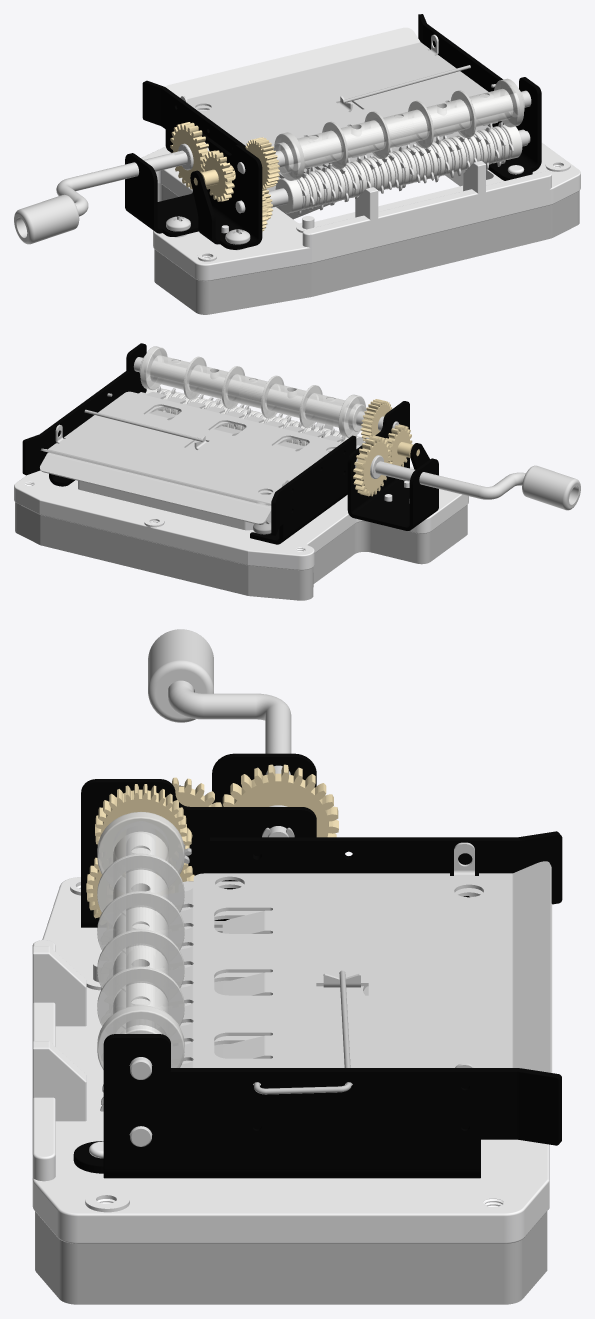
File: music-box_2.glb
3 views of the same model, one above another, from view 1: azimuth 30°, elevation 25°; view 2: azimuth 150°, elevation 25°; view 3: azimuth 270°, elevation 25° (orthographic). The views are drawn at different scales.
Visible parts, largest first — view 1: Body2 (×4), Body1 (×11), Body3 (×2); view 2: Body2 (×4), Body1 (×9), Body3 (×2); view 3: Body1 (×9), Body2 (×4), Body3 (×2).
Boxes of the visible parts, x1,y1,x2,y2 form: Body2 (×4): [154, 27, 579, 314]; Body1 (×11): [14, 14, 580, 281]; Body3 (×2): [142, 80, 531, 173]; Body2 (×4): [15, 346, 467, 600]; Body1 (×9): [14, 343, 580, 570]; Body3 (×2): [133, 357, 398, 544]; Body1 (×9): [32, 629, 561, 1243]; Body2 (×4): [35, 812, 551, 1304]; Body3 (×2): [126, 831, 562, 1079].
Bounding box in the file's own units: 0.1726 × 0.0436 × 0.0827.
